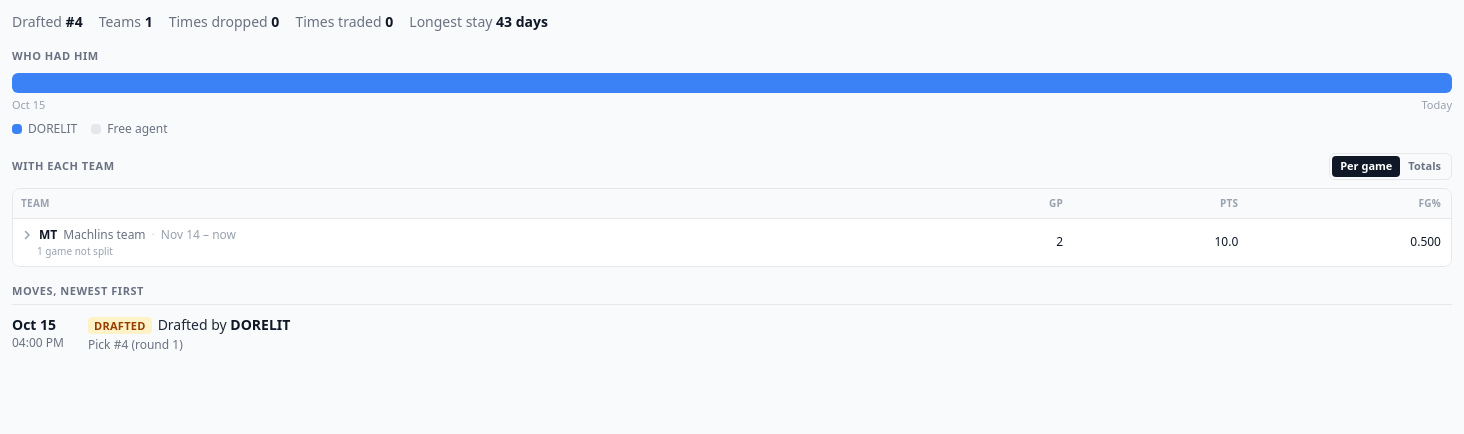
it: fantasy team stat lines › opens started and bench under the team row on a phone
Expected: the text "Started" is not shown
Expected: the text "Bench" is not shown
Click the button "MT Machlins team · Nov 14 – now 1 game not split" at (128, 242), box [21, 227, 236, 258]
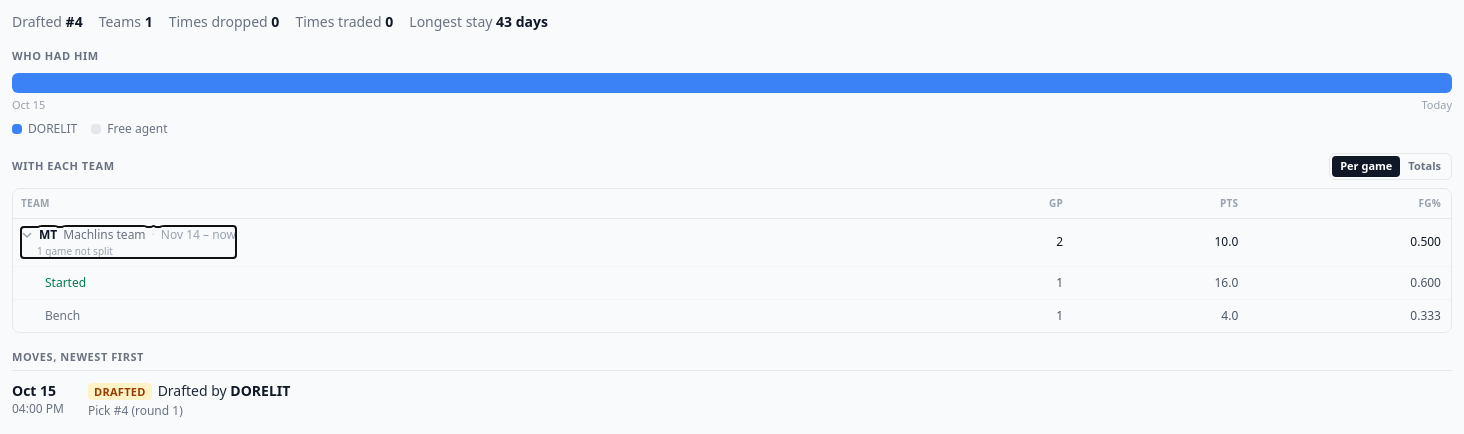
Expected: the column heading "Started" is shown, [13, 266, 937, 299]
Expected: the column heading "Bench" is shown, [13, 299, 937, 332]
Expected: the text "16.0" is shown, [1073, 266, 1248, 299]
Click the button "MT Machlins team · Nov 14 – now 1 game not split" at (128, 242), box [21, 227, 236, 258]
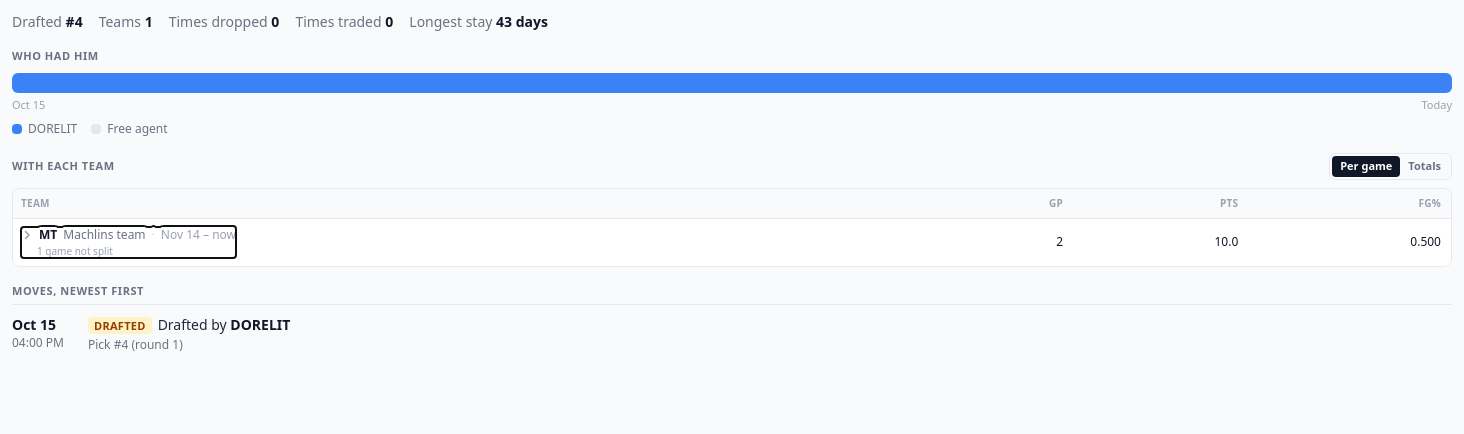
Expected: the column heading "Started" is gone
